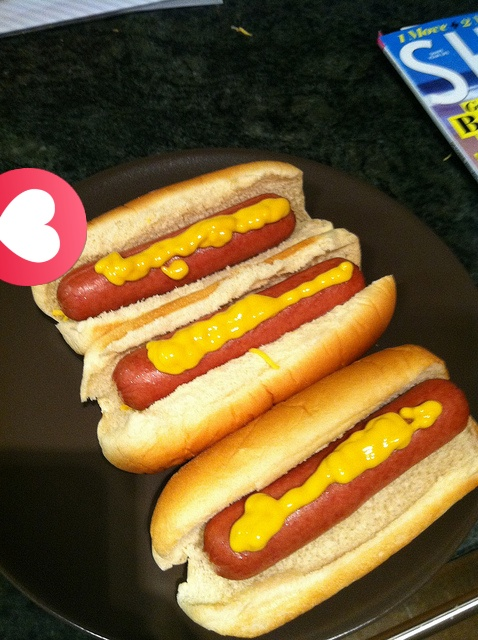love: (0, 168, 87, 286)
